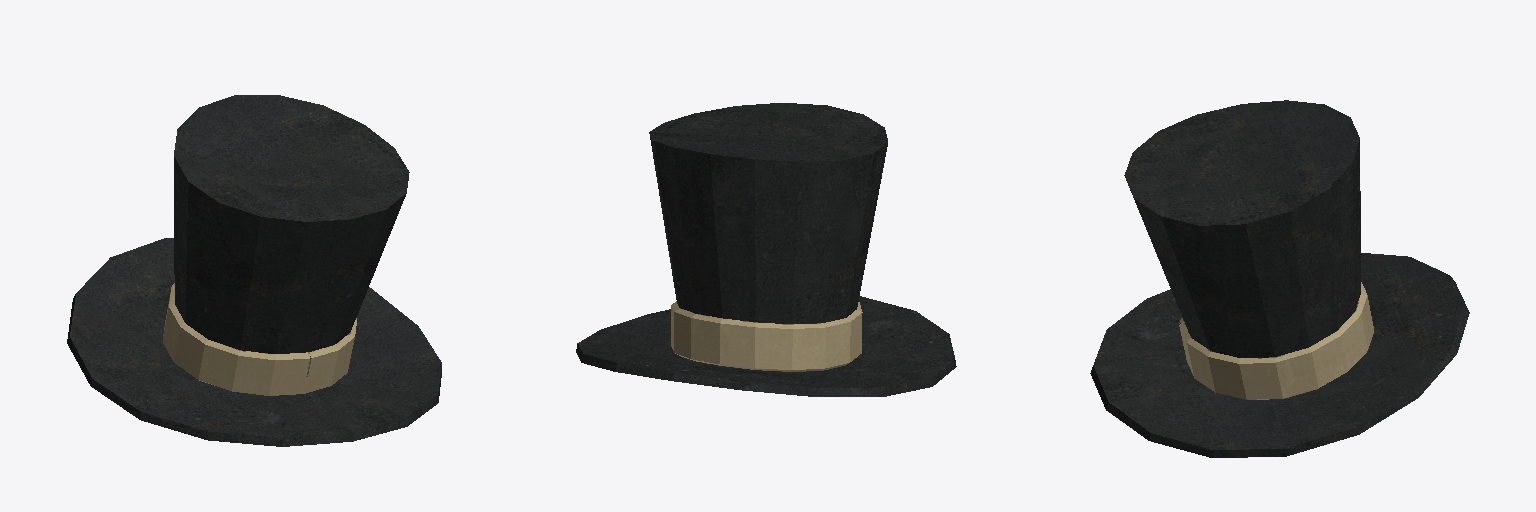
The picture shows the model from 3 angles: view 1: azimuth 30°, elevation 25°; view 2: azimuth 150°, elevation 25°; view 3: azimuth 270°, elevation 25°; orthographic projection.
Parts seen in each view (by area): view 1: snowmanhatmesh; view 2: snowmanhatmesh; view 3: snowmanhatmesh.
Boxes of the visible parts, box(x1,y1,x2,y2) form: snowmanhatmesh: box(67, 95, 441, 446); snowmanhatmesh: box(576, 103, 956, 396); snowmanhatmesh: box(1090, 100, 1469, 457).
Size of the model in its own units: 1.41 by 1.05 by 1.41.
Materials: 1 (1 with a texture image).